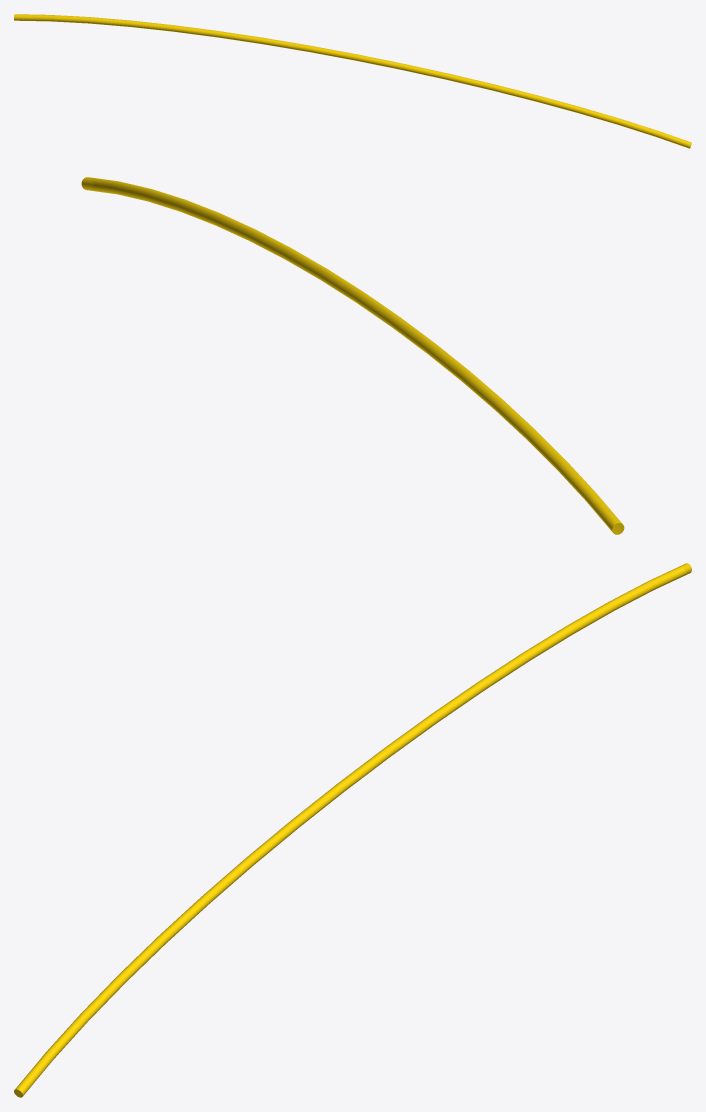
The model's file is Event_421115418_track_31.fbx.
3 renders of one model, top to bottom at view 1: azimuth 30°, elevation 25°; view 2: azimuth 150°, elevation 25°; view 3: azimuth 270°, elevation 25°, orthographic. The views are drawn at different scales.
Parts seen in each view (by area): view 1: Model; view 2: Model; view 3: Model.
Part boxes in pixels (<box>): Model: <box>14,14,691,148</box>; Model: <box>81,177,624,534</box>; Model: <box>14,563,691,1097</box>.
Bounding box in the file's own units: 3.34 × 0.6745 × 2.54.
